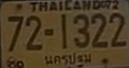1: (61, 14, 66, 48)
2: (90, 12, 106, 46), (25, 15, 41, 49), (110, 12, 125, 46)
3: (73, 13, 89, 47)
7: (7, 15, 23, 51)
NPT: (44, 51, 92, 68)
